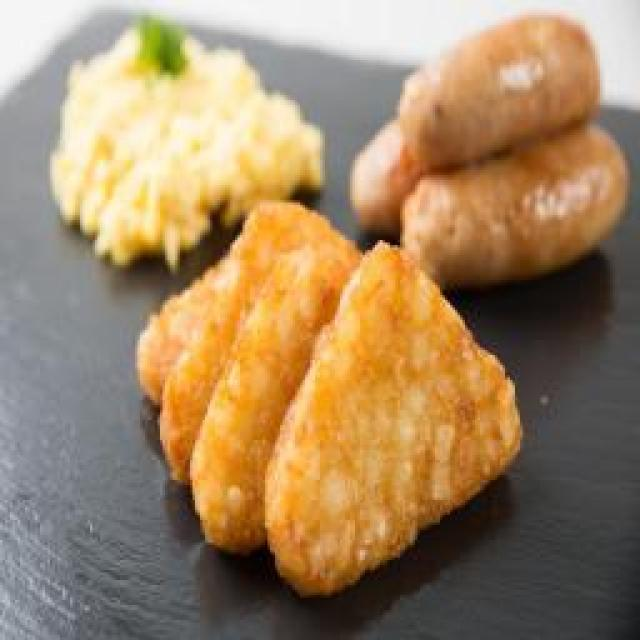Wet Waste: (145, 213, 515, 575)
